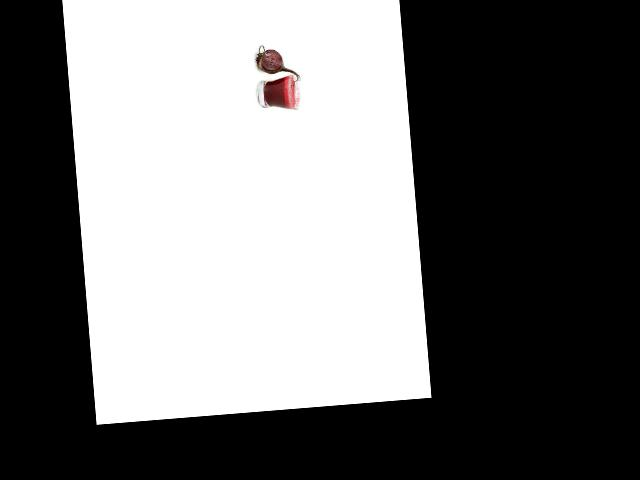beet: (254, 43, 300, 90)
